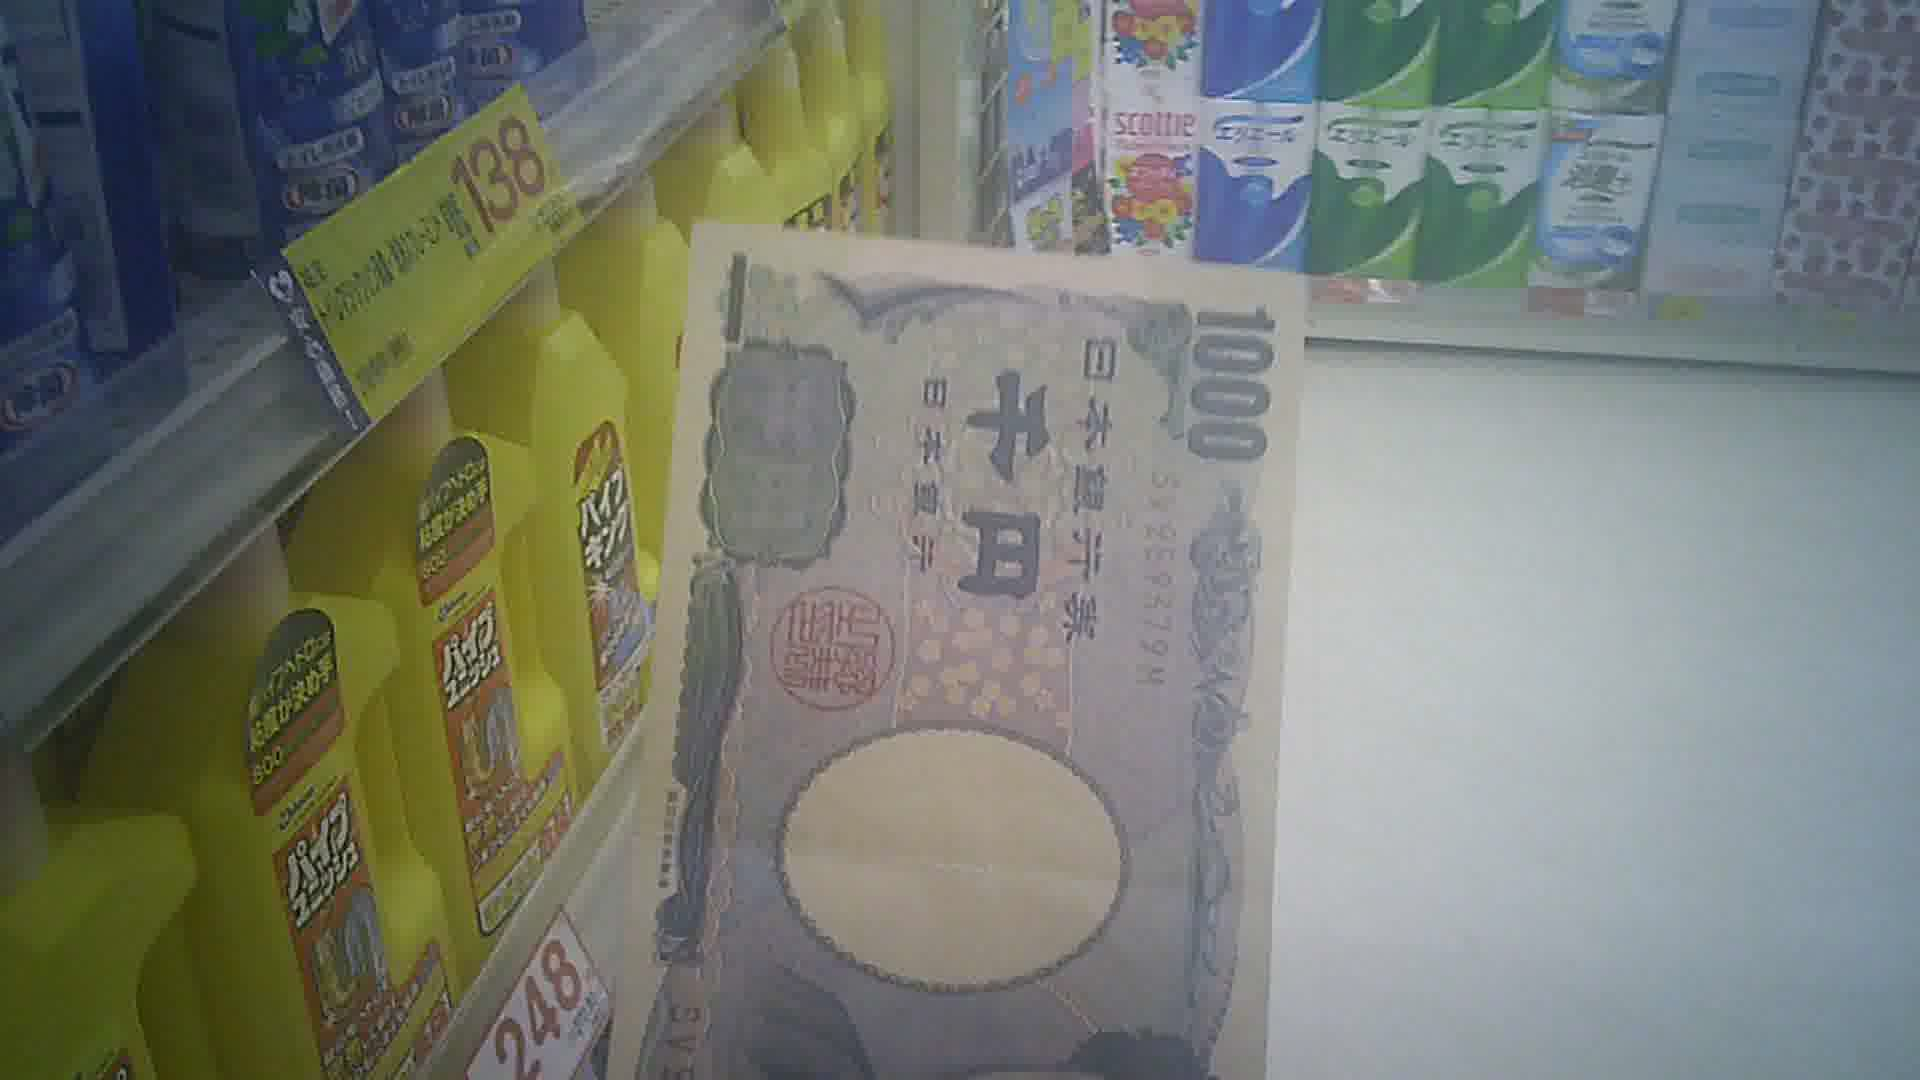1,000 Yen: (662, 202, 1305, 1079)
